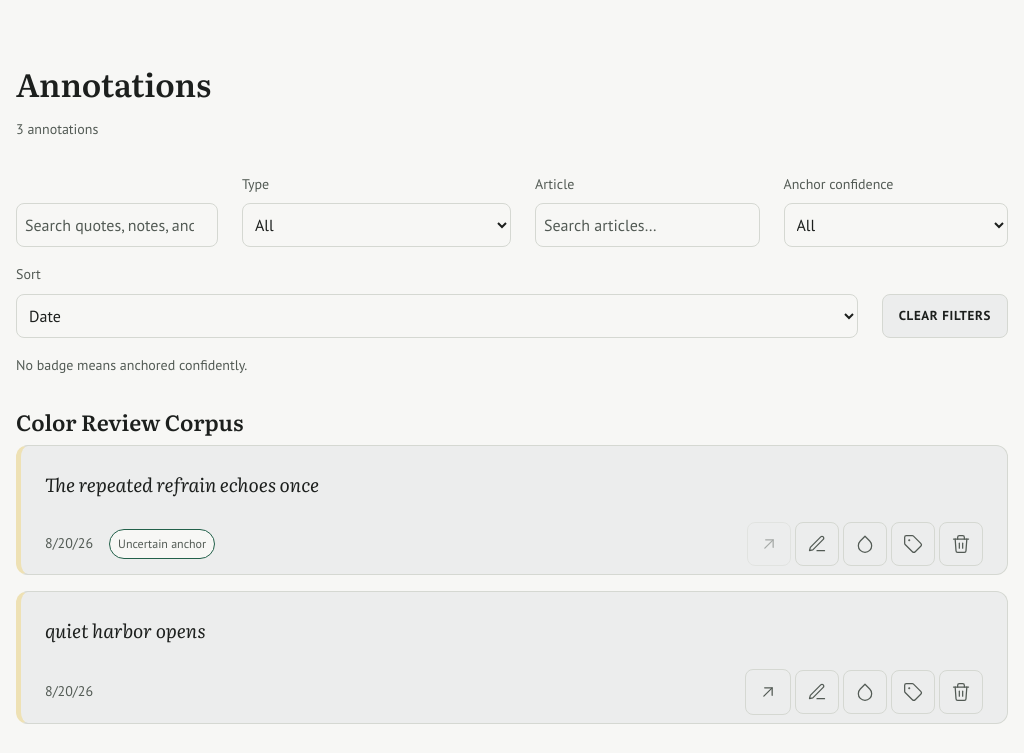
Test case: ReviewView highlight colors (issue #119) › applying a slot commits color + ADDITIVE tags through the review seams, invalidates the snapshot, and the re-derived row re-matches
Click the button named "Change color, currently Neutral: quiet harbor opens".
click(865, 692)  # box x1=843 y1=670 x2=887 y2=714
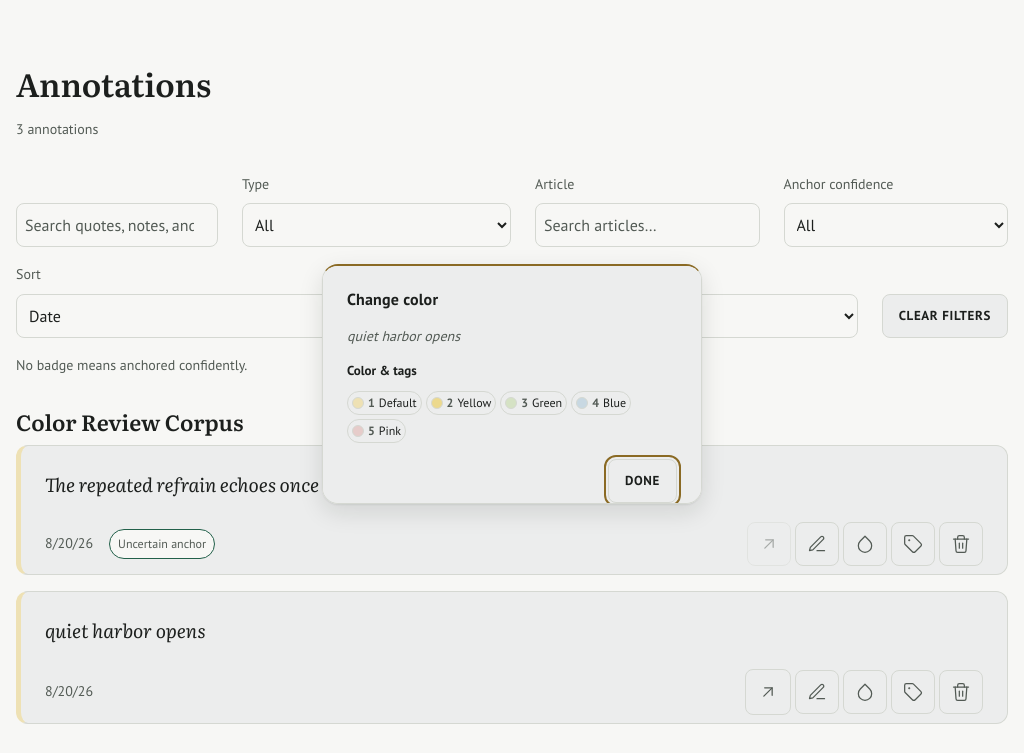
Click the button with aria-label "Apply slot 3: Green".
click(534, 403)  # box x1=500 y1=391 x2=567 y2=415
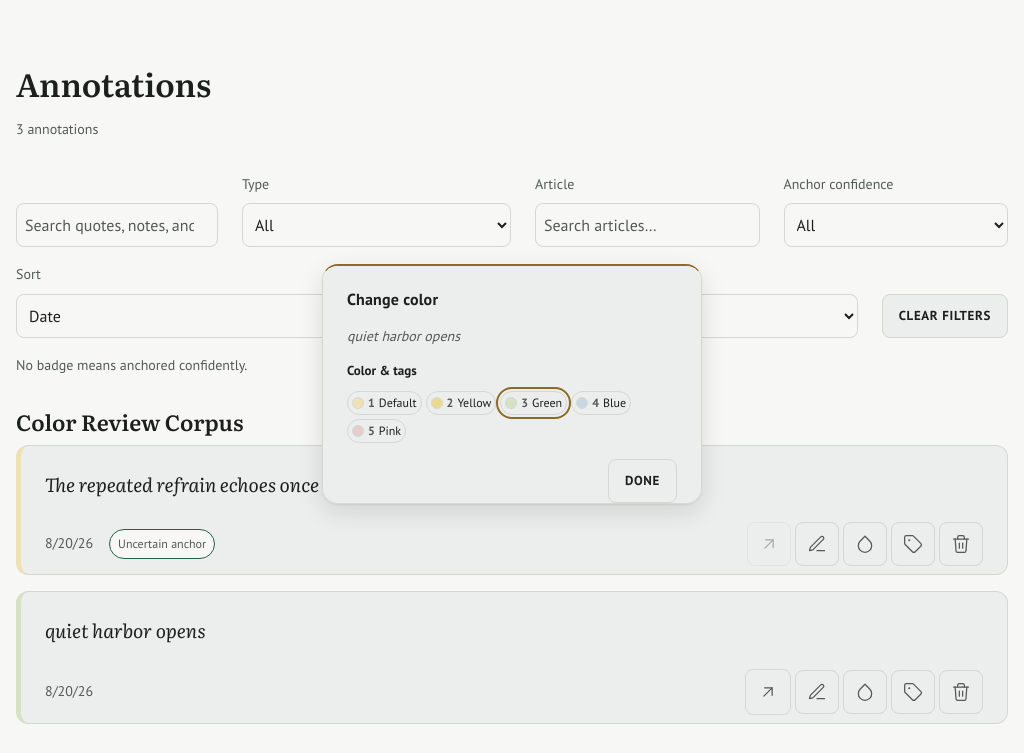
Result: the list item has class "review-item-color-green" at x1=16 y1=591 x2=1008 y2=724
